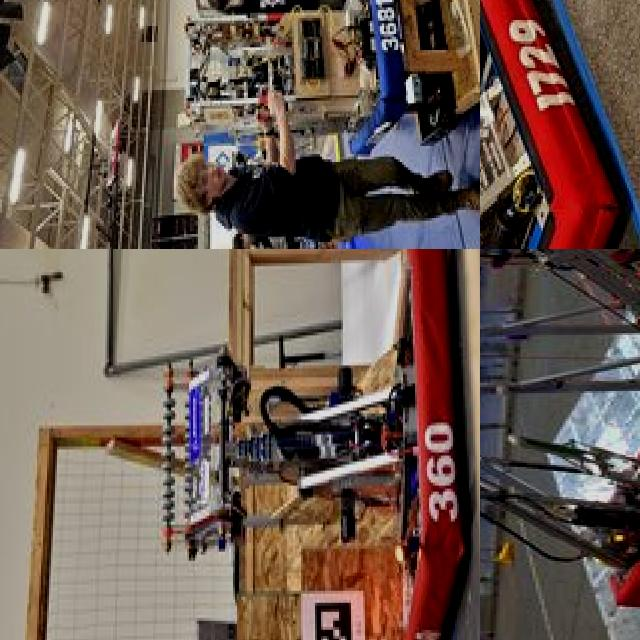FRC-Robots: (144, 249, 473, 640), (147, 0, 423, 249), (480, 0, 627, 249), (480, 249, 640, 462), (480, 425, 640, 571), (480, 249, 640, 328)
